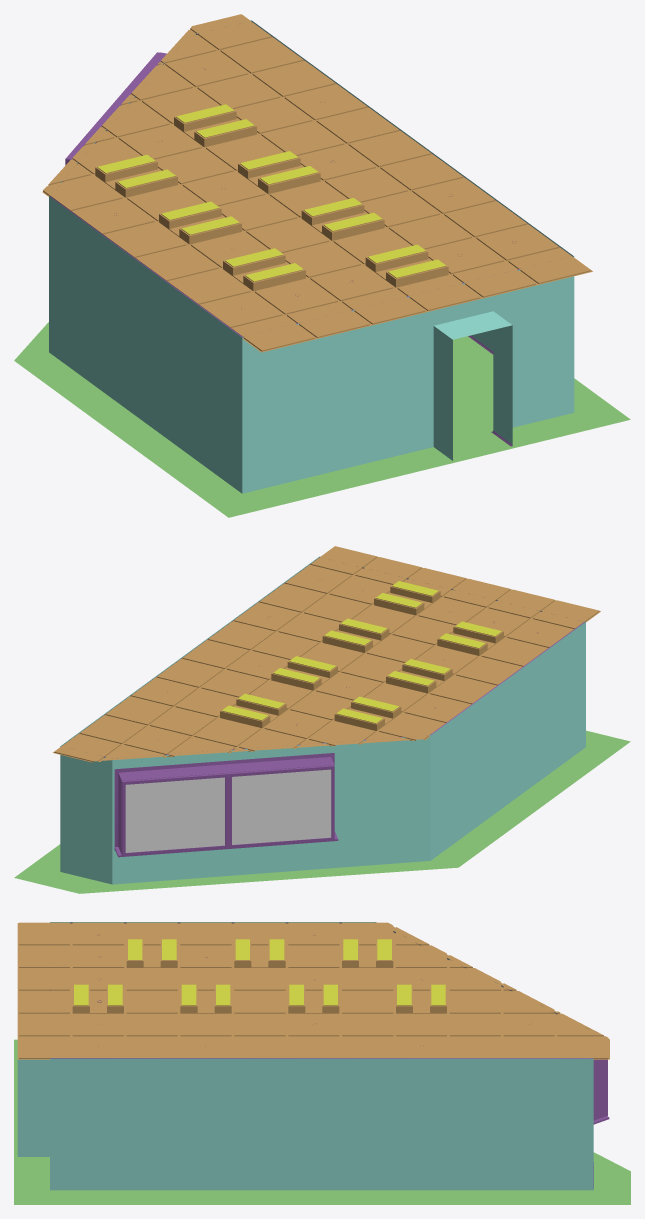
The model's file is Room.fbx.
The picture shows the model from 3 angles, top to bottom: view 1: azimuth 30°, elevation 25°; view 2: azimuth 150°, elevation 25°; view 3: azimuth 270°, elevation 25°; orthographic projection. The views are drawn at different scales.
Parts seen in each view (by area): view 1: ceiling, Walls, floor, details; view 2: ceiling, Walls, details, floor; view 3: Walls, ceiling, floor, details.
Boxes of the visible parts, x1,y1,x2,y2 form: ceiling: (42, 14, 592, 352); Walls: (49, 20, 574, 493); floor: (14, 322, 630, 517); details: (50, 21, 572, 460); ceiling: (53, 546, 600, 762); Walls: (60, 556, 585, 884); details: (65, 557, 584, 857); floor: (14, 730, 630, 893); Walls: (17, 922, 593, 1190); ceiling: (17, 922, 609, 1059); floor: (14, 1039, 630, 1204); details: (50, 922, 609, 1188).
Bounding box in the file's own units: 727 × 284 × 1146.
